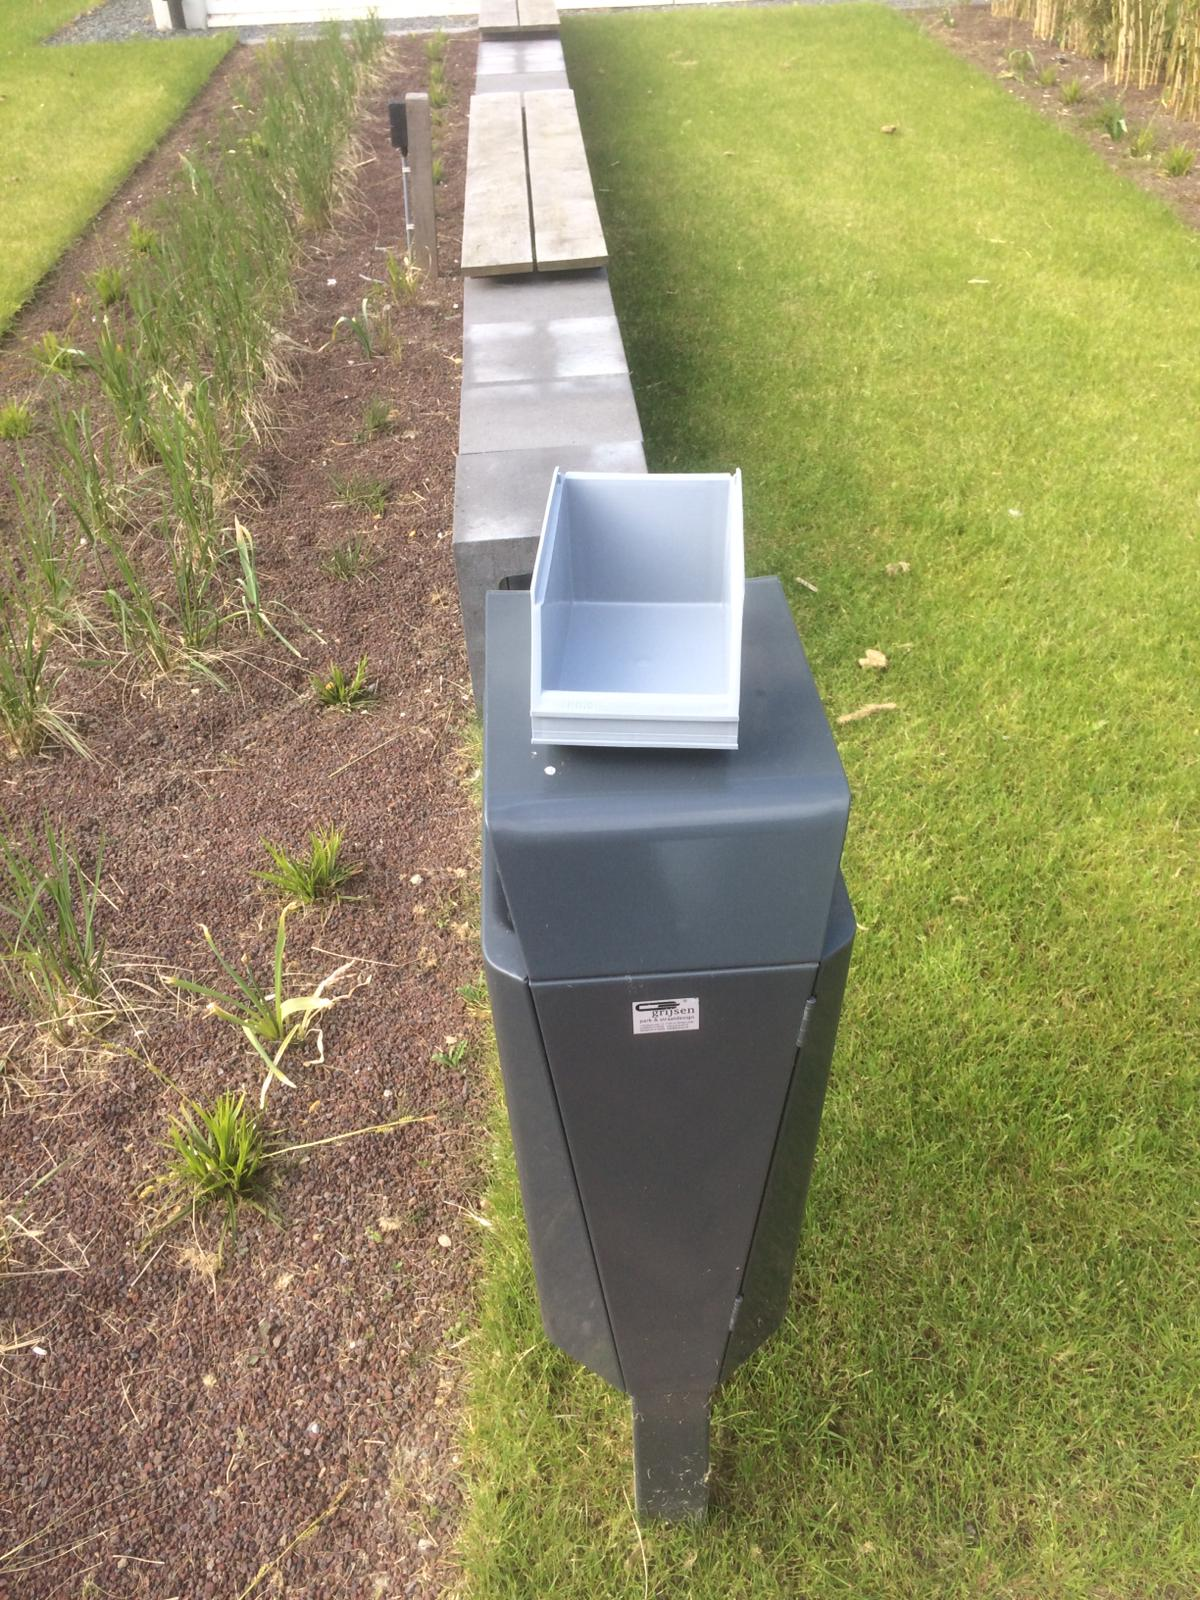tray_front: (519, 580, 753, 760)
